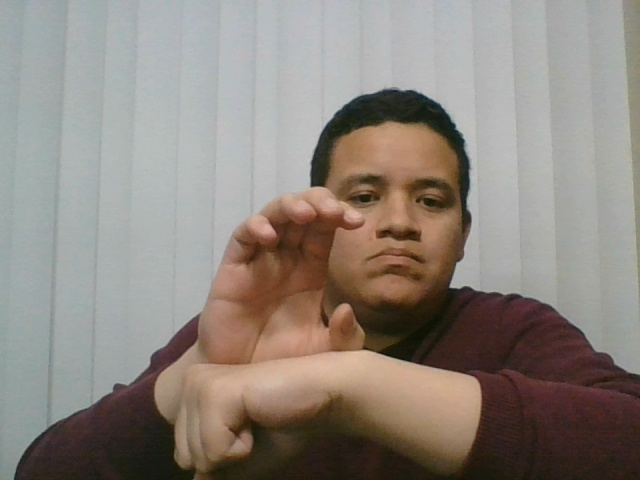Church: (164, 179, 379, 478)
